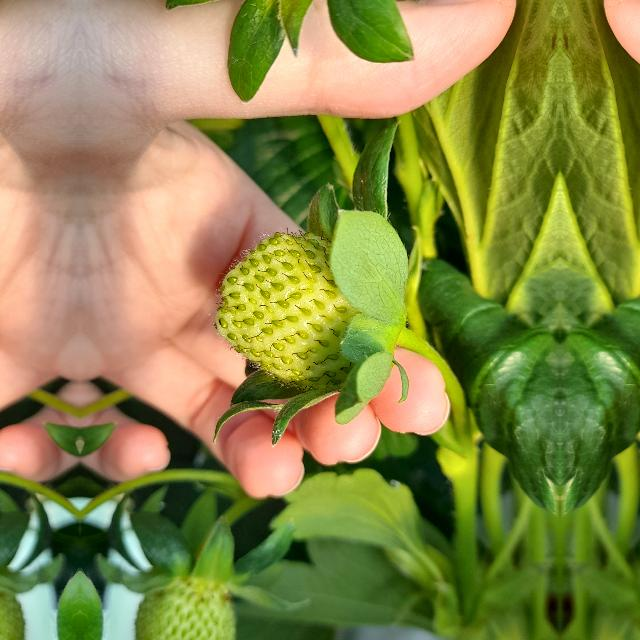Health_25: (214, 230, 360, 390), (131, 570, 243, 640), (0, 570, 29, 639)
